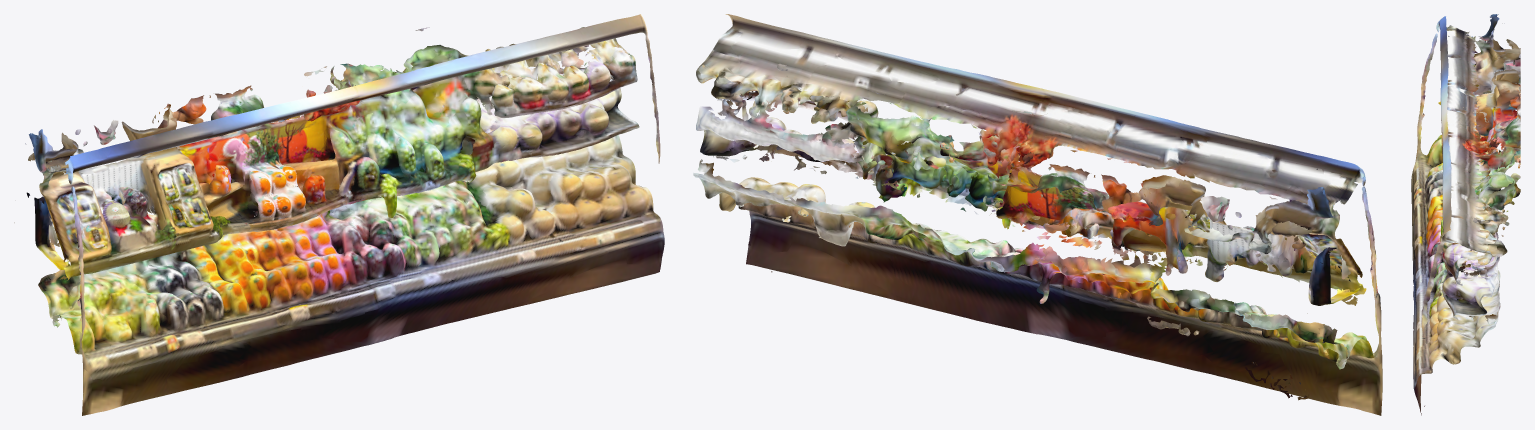
The model's file is fruit.glb.
The picture shows the model from 3 angles, left to right: view 1: azimuth 30°, elevation 25°; view 2: azimuth 150°, elevation 25°; view 3: azimuth 270°, elevation 25°; orthographic projection. The views are drawn at different scales.
Parts seen in each view (by area): view 1: Object_2; view 2: Object_2; view 3: Object_2.
Part boxes in pixels (box(x1,y1,x2,y2)): Object_2: box(14, 14, 664, 415); Object_2: box(693, 14, 1382, 415); Object_2: box(1411, 14, 1520, 415).
Bounding box in the file's own units: 3.81 × 1.53 × 0.8124.
Materials: 1 (1 with a texture image).
